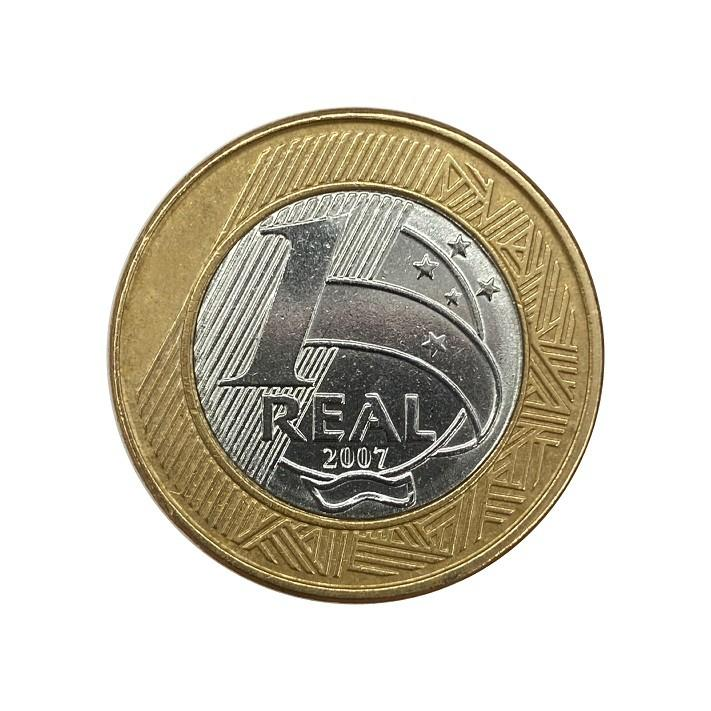1 real: (66, 86, 651, 645)
